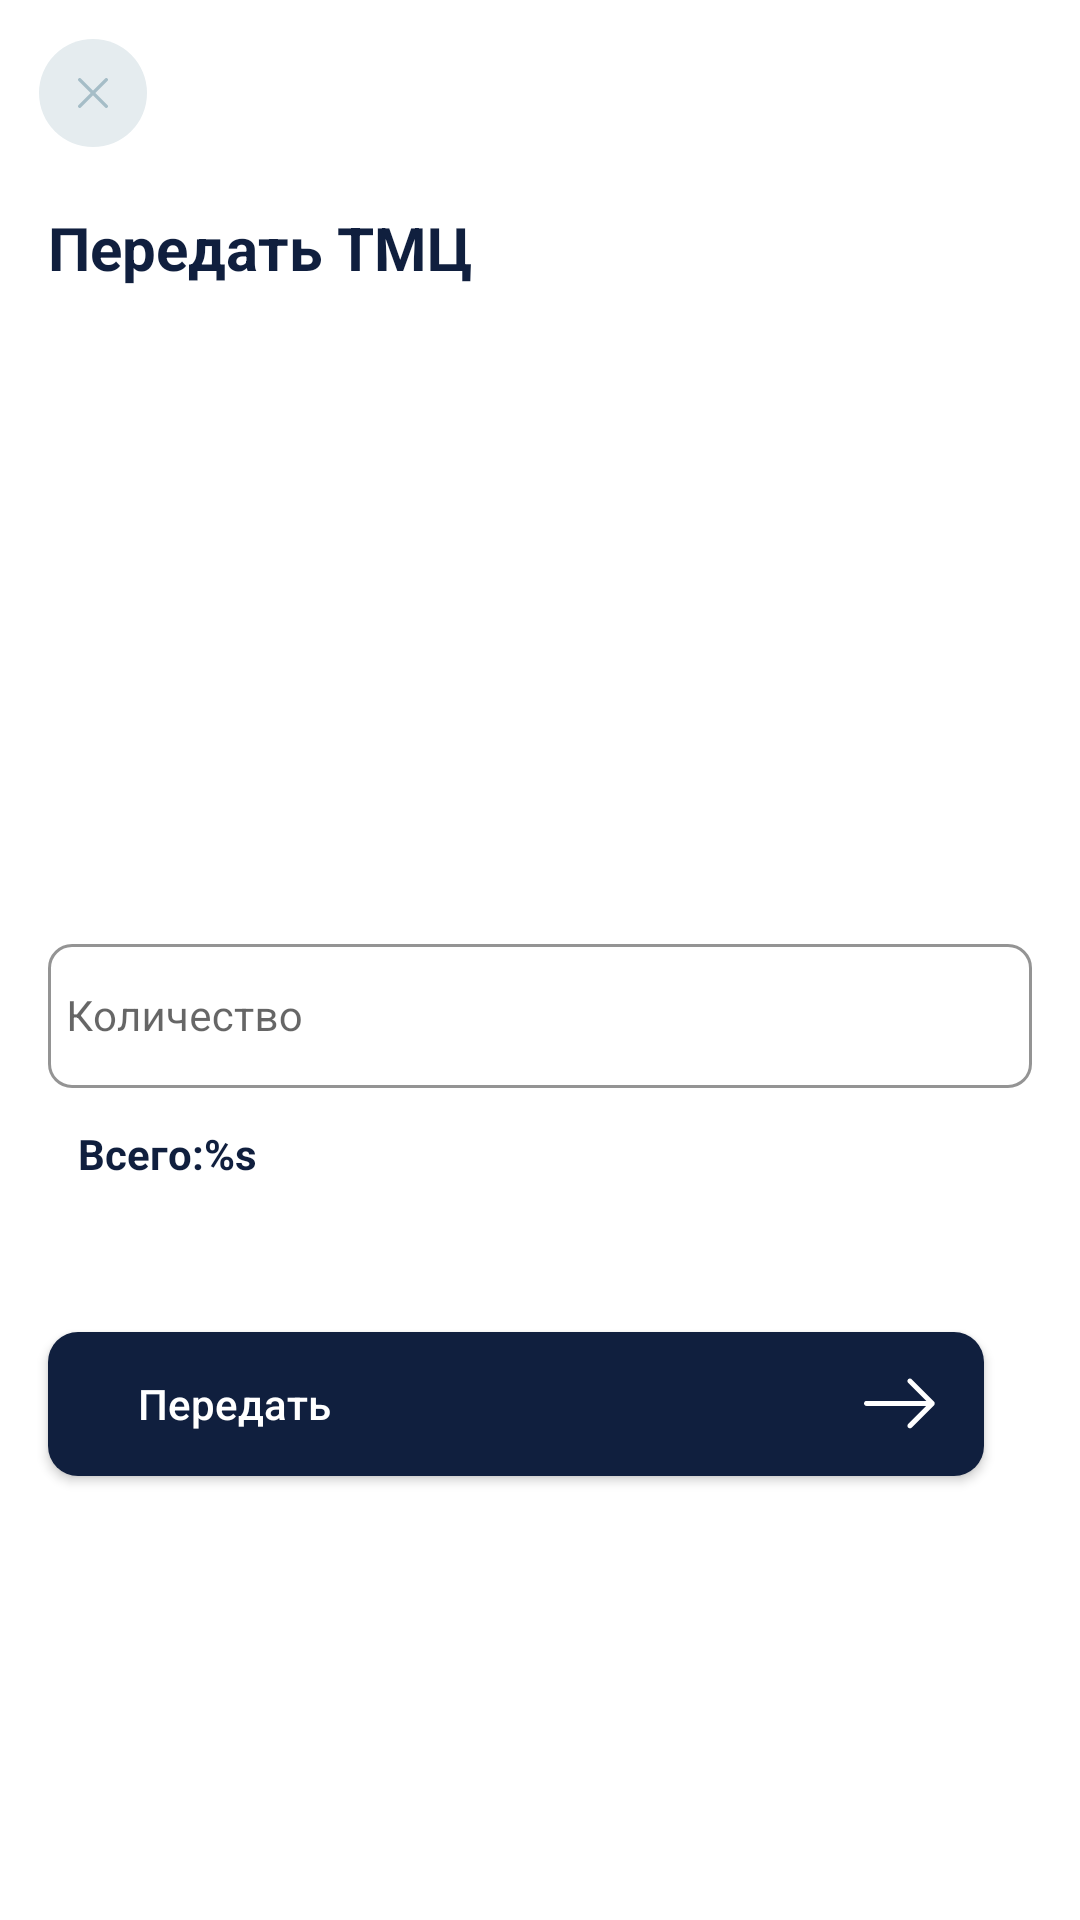

Named icons in this screenshot (1080×1920) and their bounding boxes, (x1, y1, x2, y2):
close: (39, 39, 147, 147)
